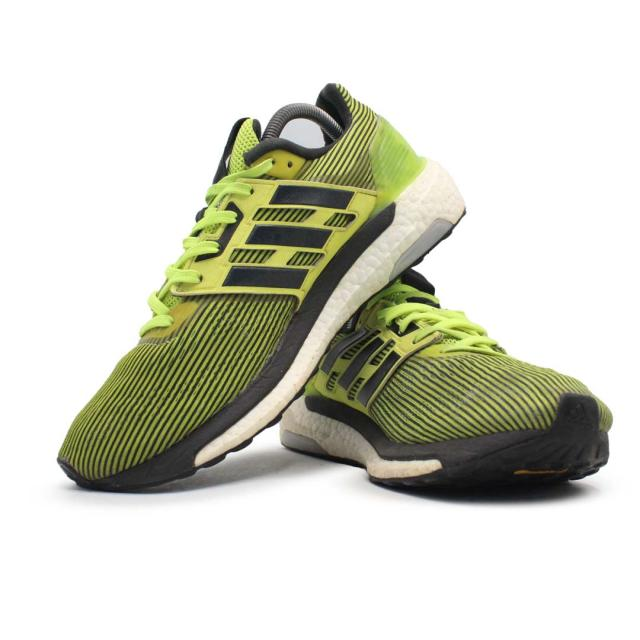heel: (332, 81, 430, 213)
midsole: (57, 159, 466, 491), (280, 387, 609, 484)
uppersole: (60, 116, 376, 476), (307, 270, 616, 439)
